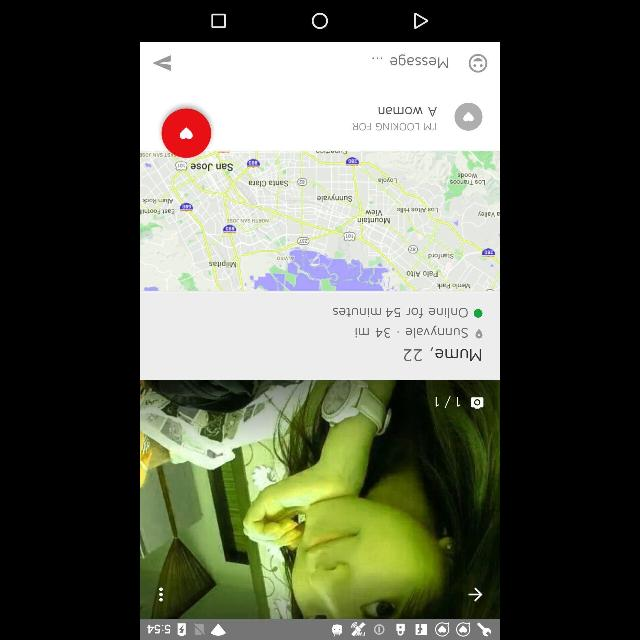button: (162, 110, 212, 156)
icon: (456, 105, 482, 131), (312, 14, 331, 28), (155, 54, 171, 70), (470, 56, 486, 72), (414, 12, 428, 30), (212, 14, 226, 28), (470, 588, 482, 602), (475, 308, 483, 318), (476, 328, 482, 340), (159, 585, 163, 603)
image: (140, 380, 500, 620)
input: (140, 44, 500, 84)
map: (142, 151, 500, 293)
panel: (142, 84, 500, 150), (140, 2, 500, 42)
text: (353, 328, 469, 340), (404, 346, 484, 362), (332, 308, 468, 316), (371, 56, 449, 68), (352, 122, 438, 132), (378, 105, 438, 116)
uppertaskbar: (140, 620, 500, 640)
